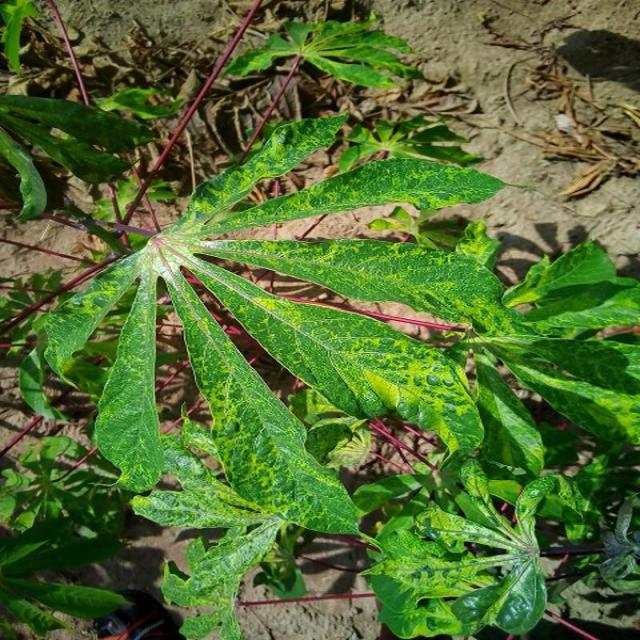cassava leaf: (4, 6, 638, 637)
